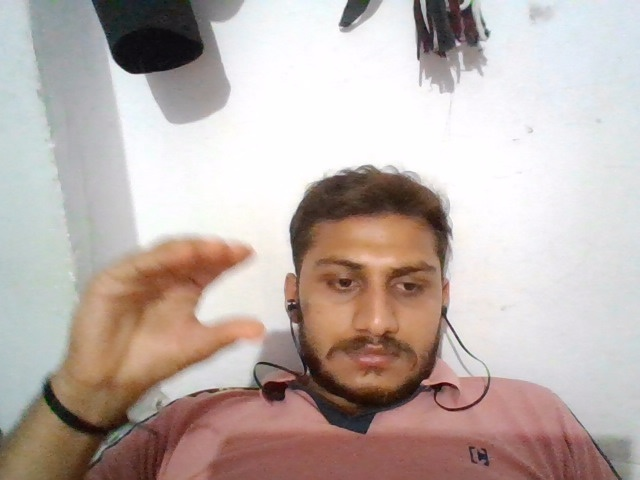No: (57, 232, 274, 383)
